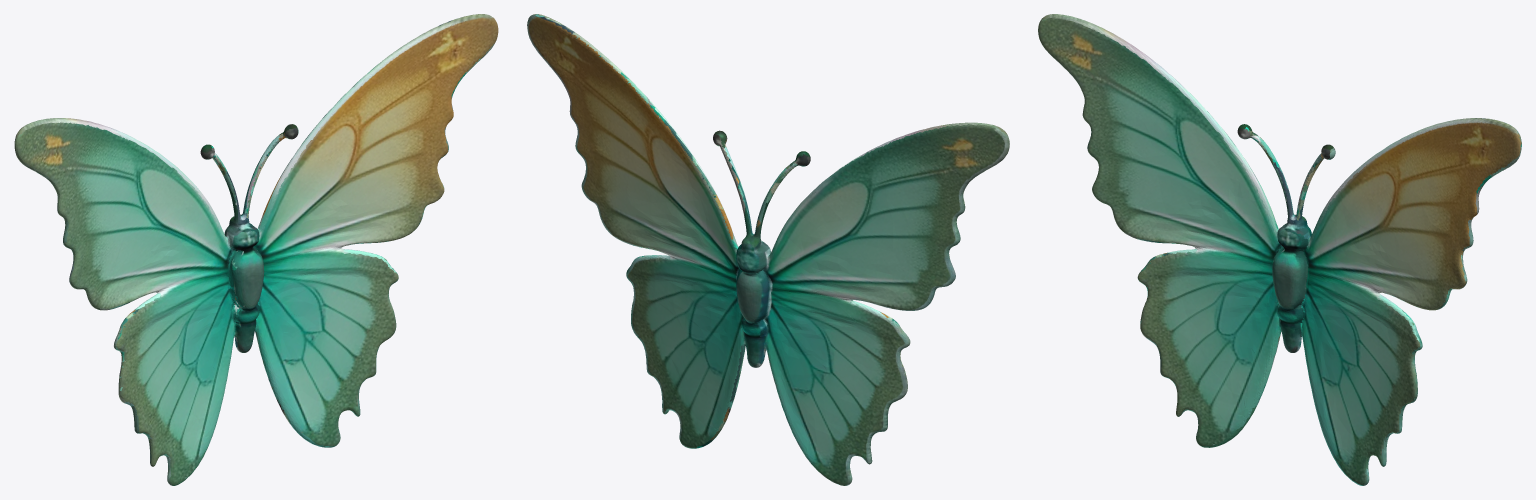
File: ambient_crystal_butterfly.glb
The picture shows the model from 3 angles, left to right: view 1: azimuth 30°, elevation 25°; view 2: azimuth 150°, elevation 25°; view 3: azimuth 330°, elevation 25°; orthographic projection.
Visible parts, largest first — view 1: tmp5o80_cby.ply; view 2: tmp5o80_cby.ply; view 3: tmp5o80_cby.ply.
Boxes of the visible parts, x1=… form: tmp5o80_cby.ply: x1=14, y1=14, x2=498, y2=485; tmp5o80_cby.ply: x1=527, y1=14, x2=1009, y2=485; tmp5o80_cby.ply: x1=1038, y1=14, x2=1521, y2=485.
Size of the model in its own units: 1.99 by 1.57 by 0.1855.
Materials: 1 (1 with a texture image).
